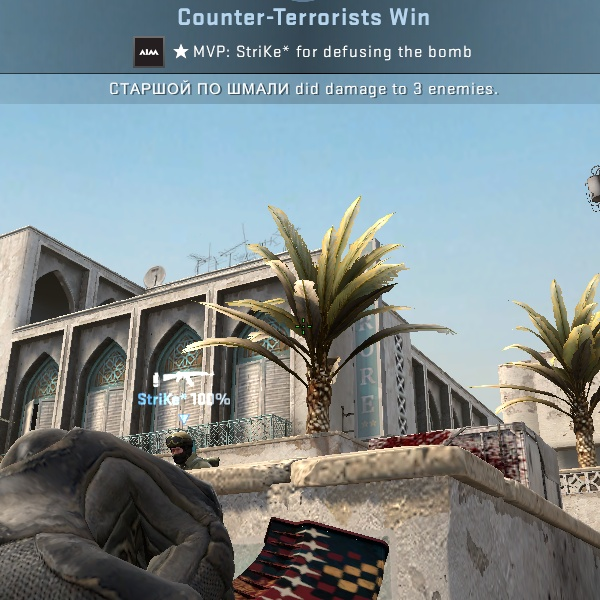ct_head: (164, 430, 197, 462)
